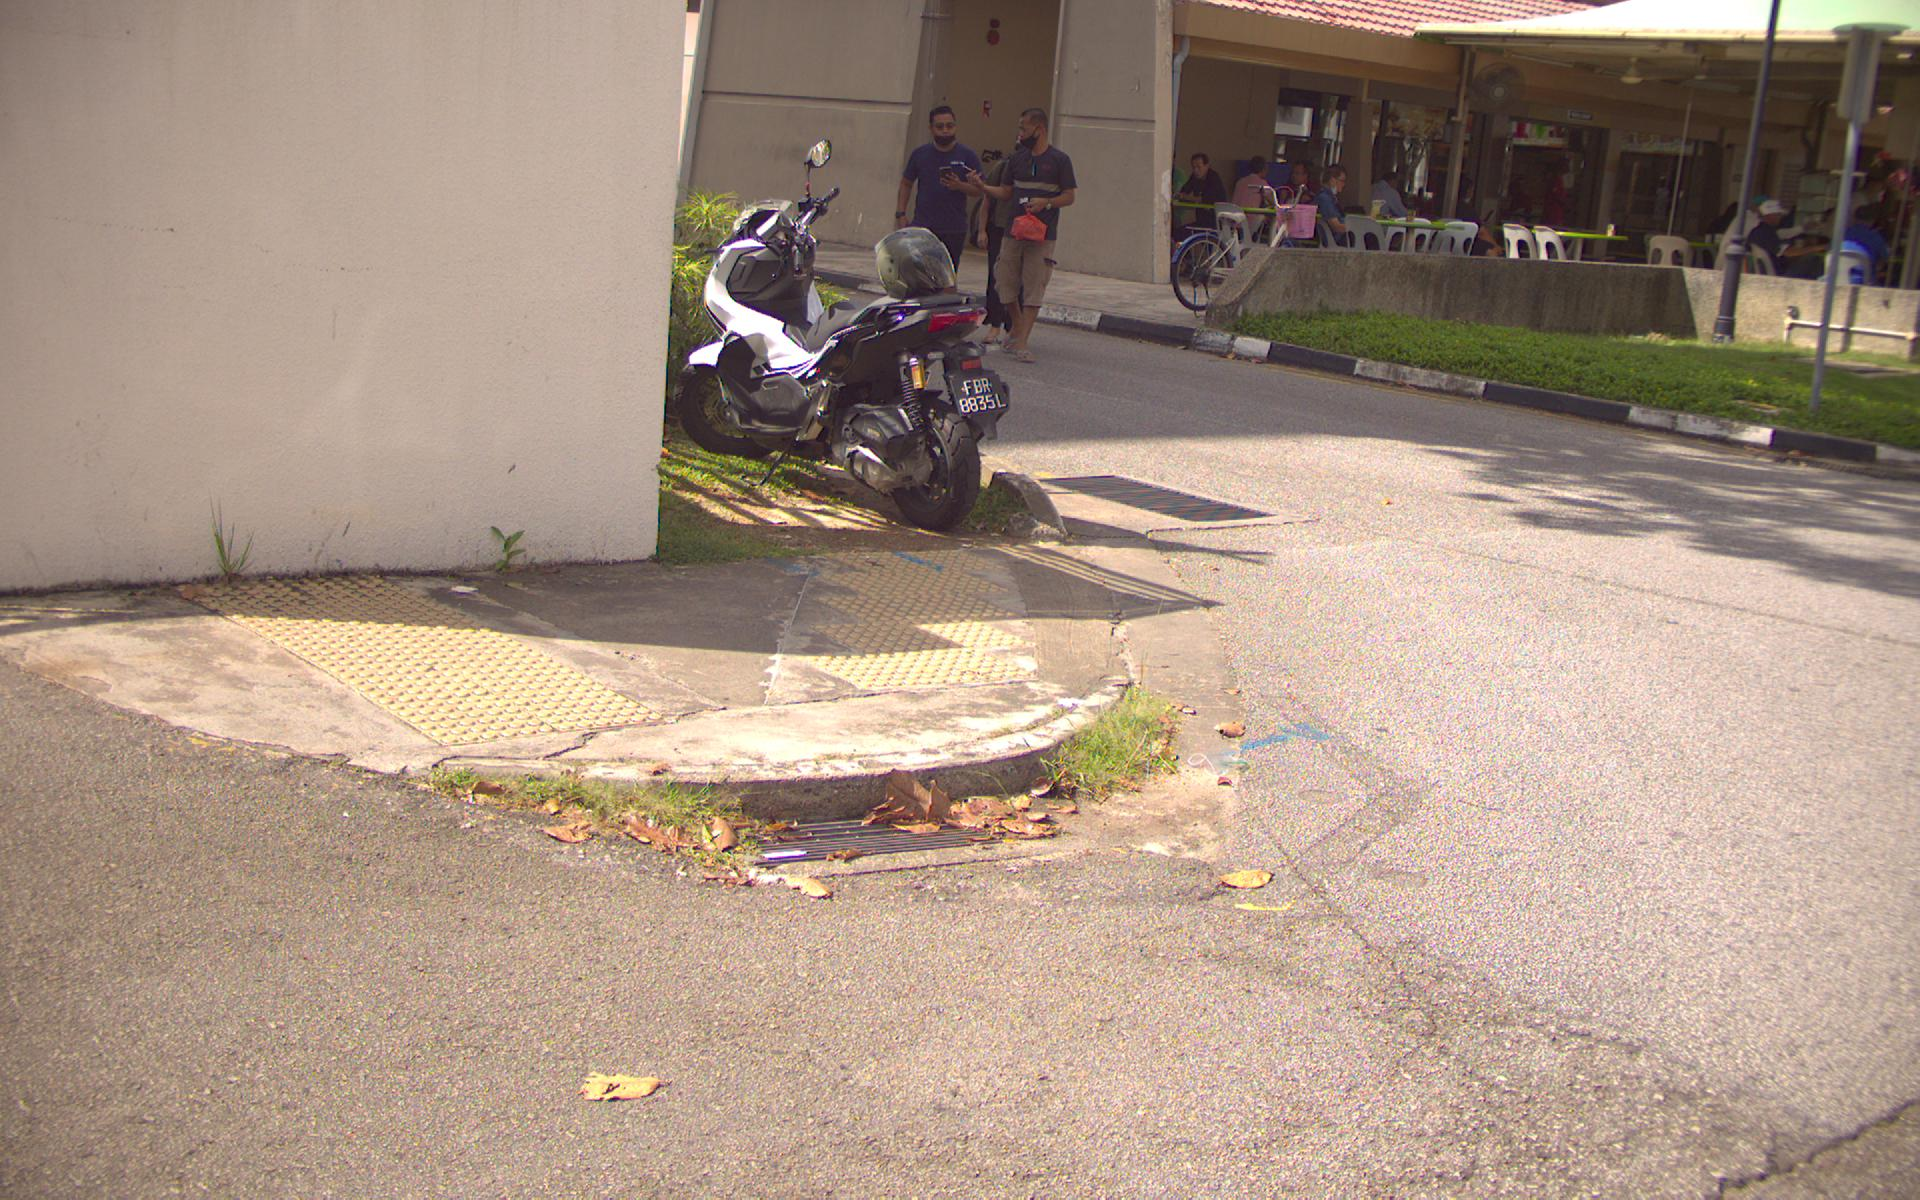road_curb_low: (440, 679, 1274, 906)
